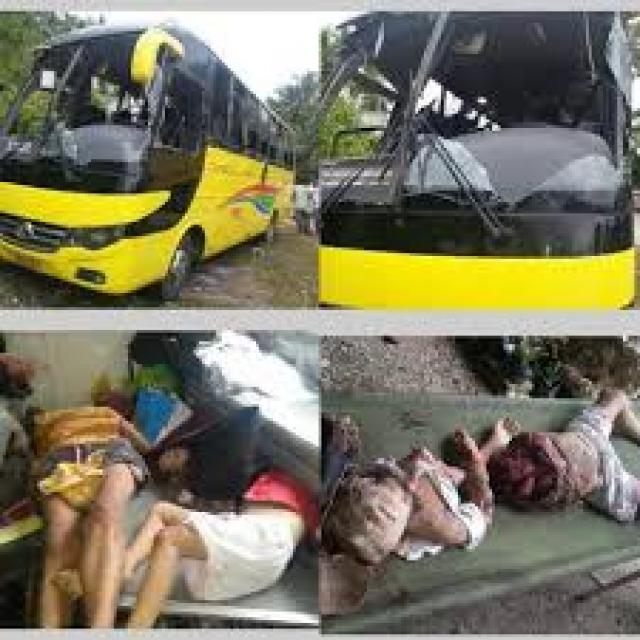accident: (323, 12, 640, 306)
